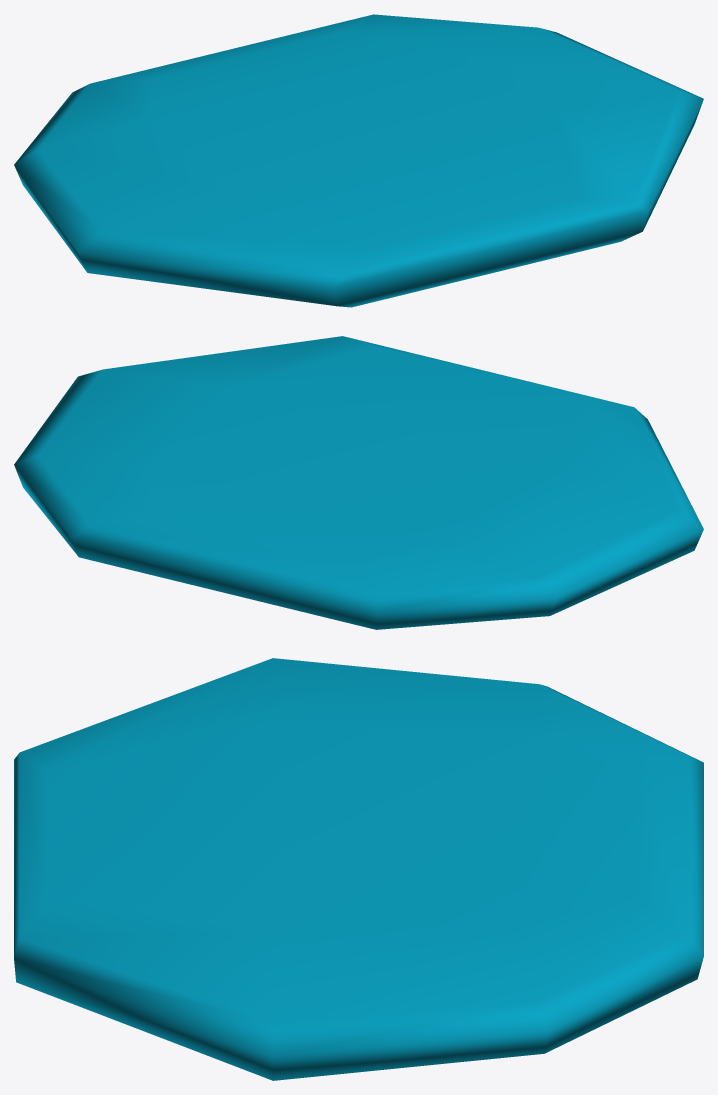
Rendered from Platform bluefbx.fbx.
3 views of the same model, one above another, from view 1: azimuth 30°, elevation 25°; view 2: azimuth 150°, elevation 25°; view 3: azimuth 270°, elevation 25° (orthographic). The views are drawn at different scales.
Visible parts, largest first — view 1: pCube58; view 2: pCube58; view 3: pCube58.
Boxes of the visible parts, left/top/right/bottom form: pCube58: left=14, top=14, right=703, bottom=307; pCube58: left=14, top=336, right=703, bottom=629; pCube58: left=14, top=658, right=703, bottom=1080.
Size of the model in its own units: 33.18 by 3.19 by 24.38.
